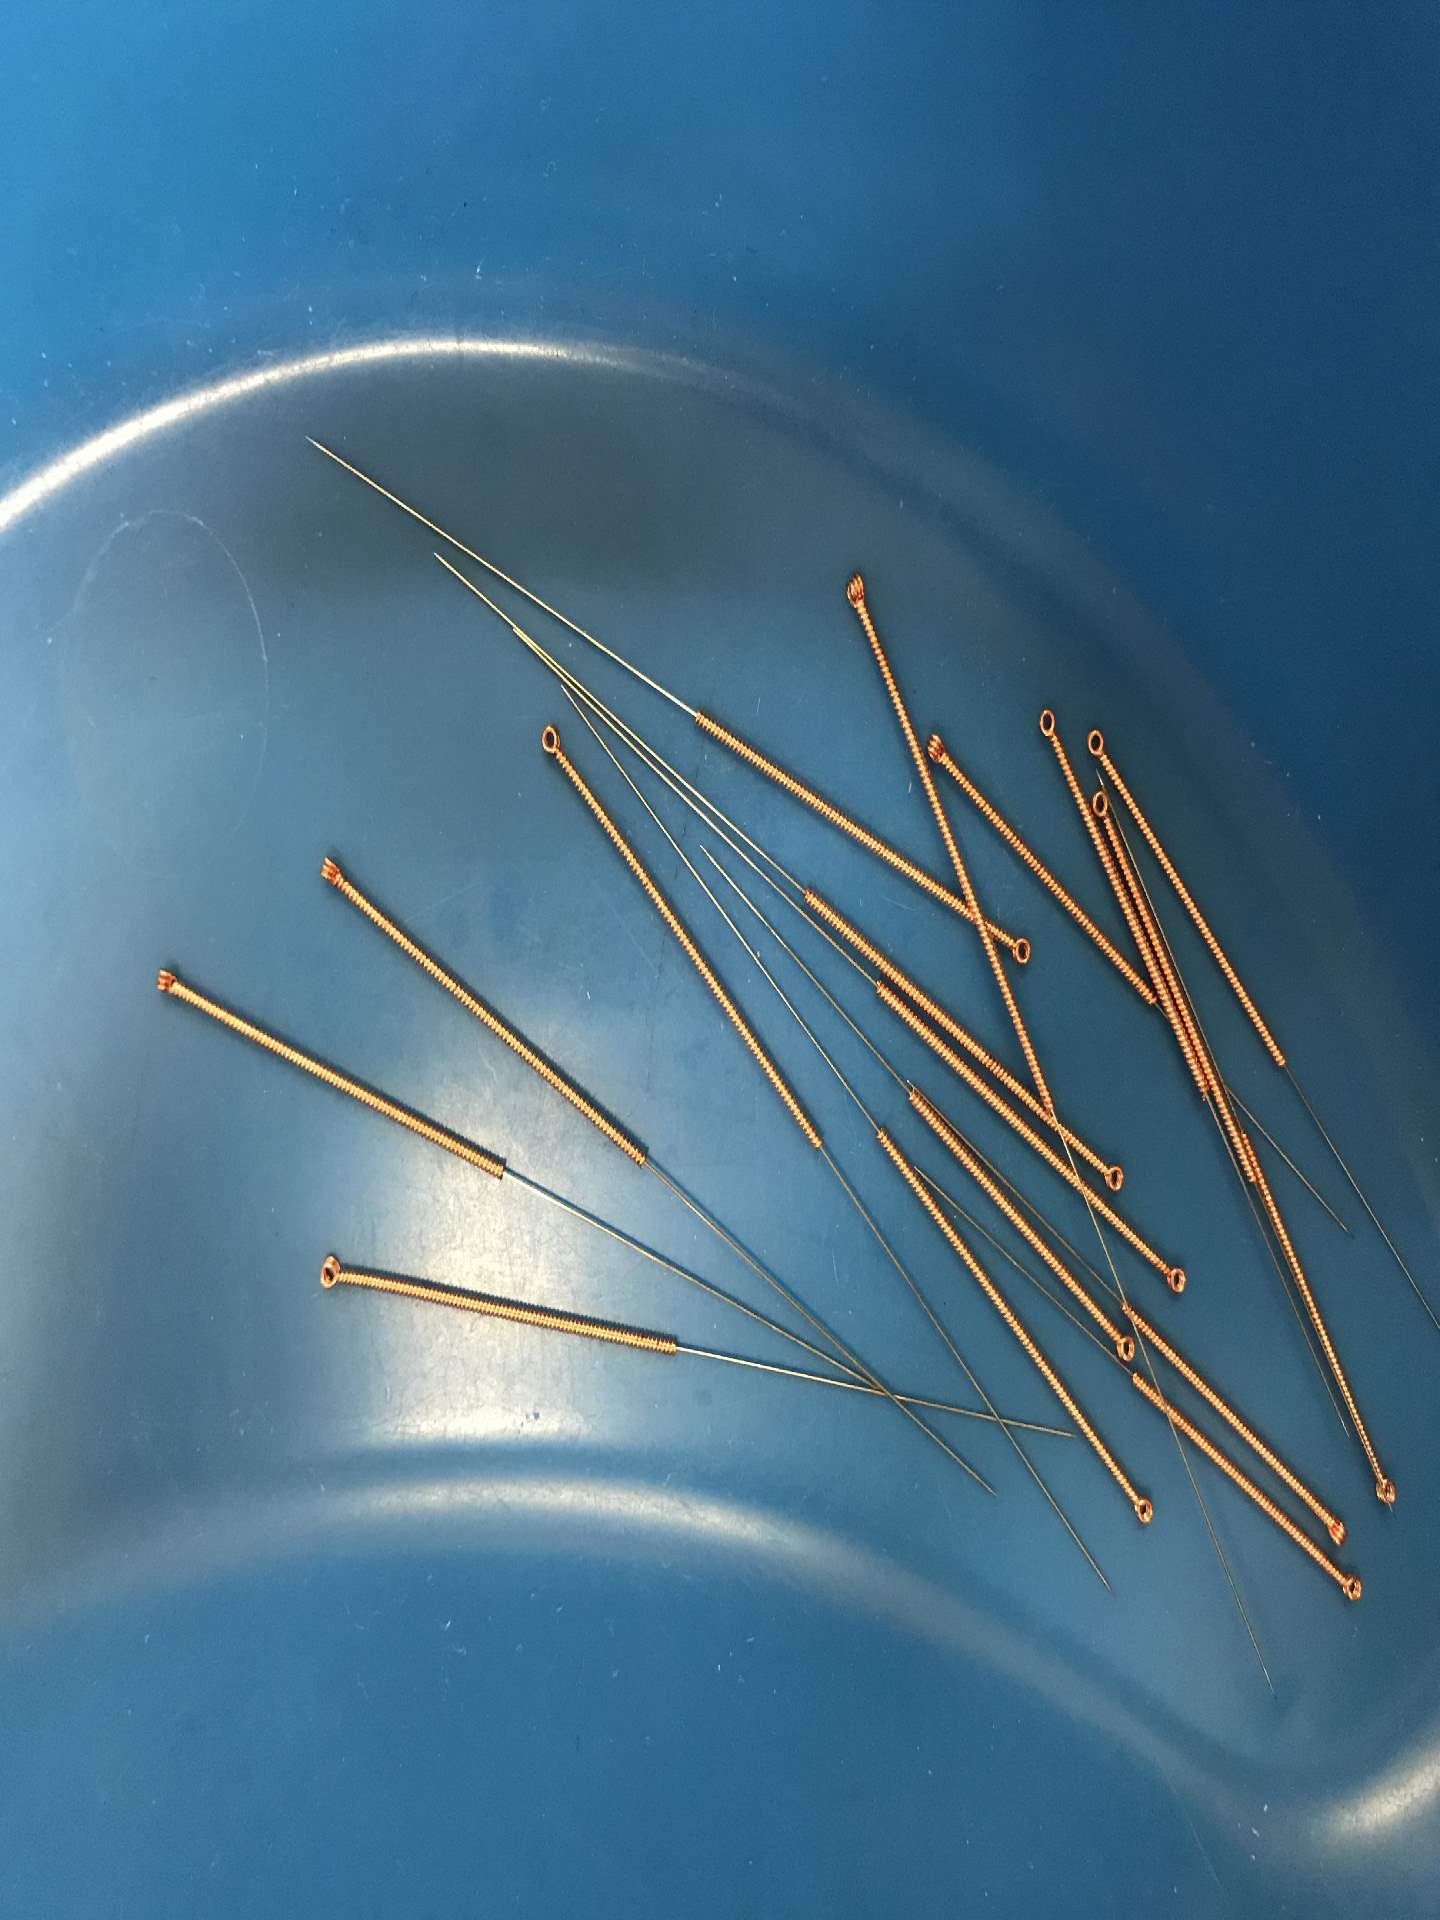needle: (304, 1241, 358, 1305), (141, 955, 198, 1008), (1361, 1450, 1407, 1516), (1075, 715, 1121, 782), (526, 711, 573, 773), (830, 562, 877, 624), (309, 845, 358, 897), (923, 717, 962, 782), (1119, 1482, 1163, 1538), (1026, 695, 1068, 753), (1150, 1253, 1196, 1302), (1091, 1155, 1136, 1200), (1314, 1507, 1358, 1554), (998, 927, 1041, 975), (1101, 1323, 1141, 1373), (1331, 1568, 1373, 1613), (1088, 785, 1116, 828)
